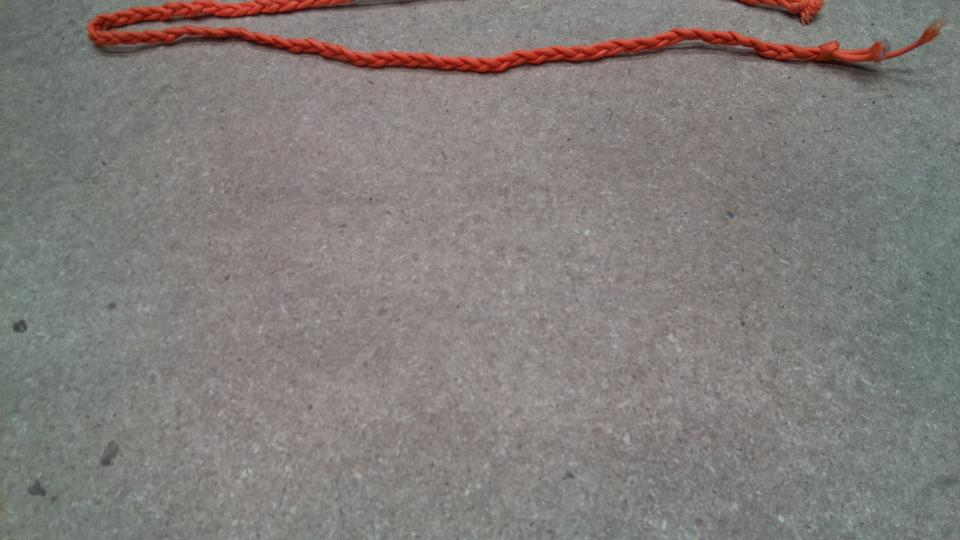rope: (85, 1, 950, 79)
